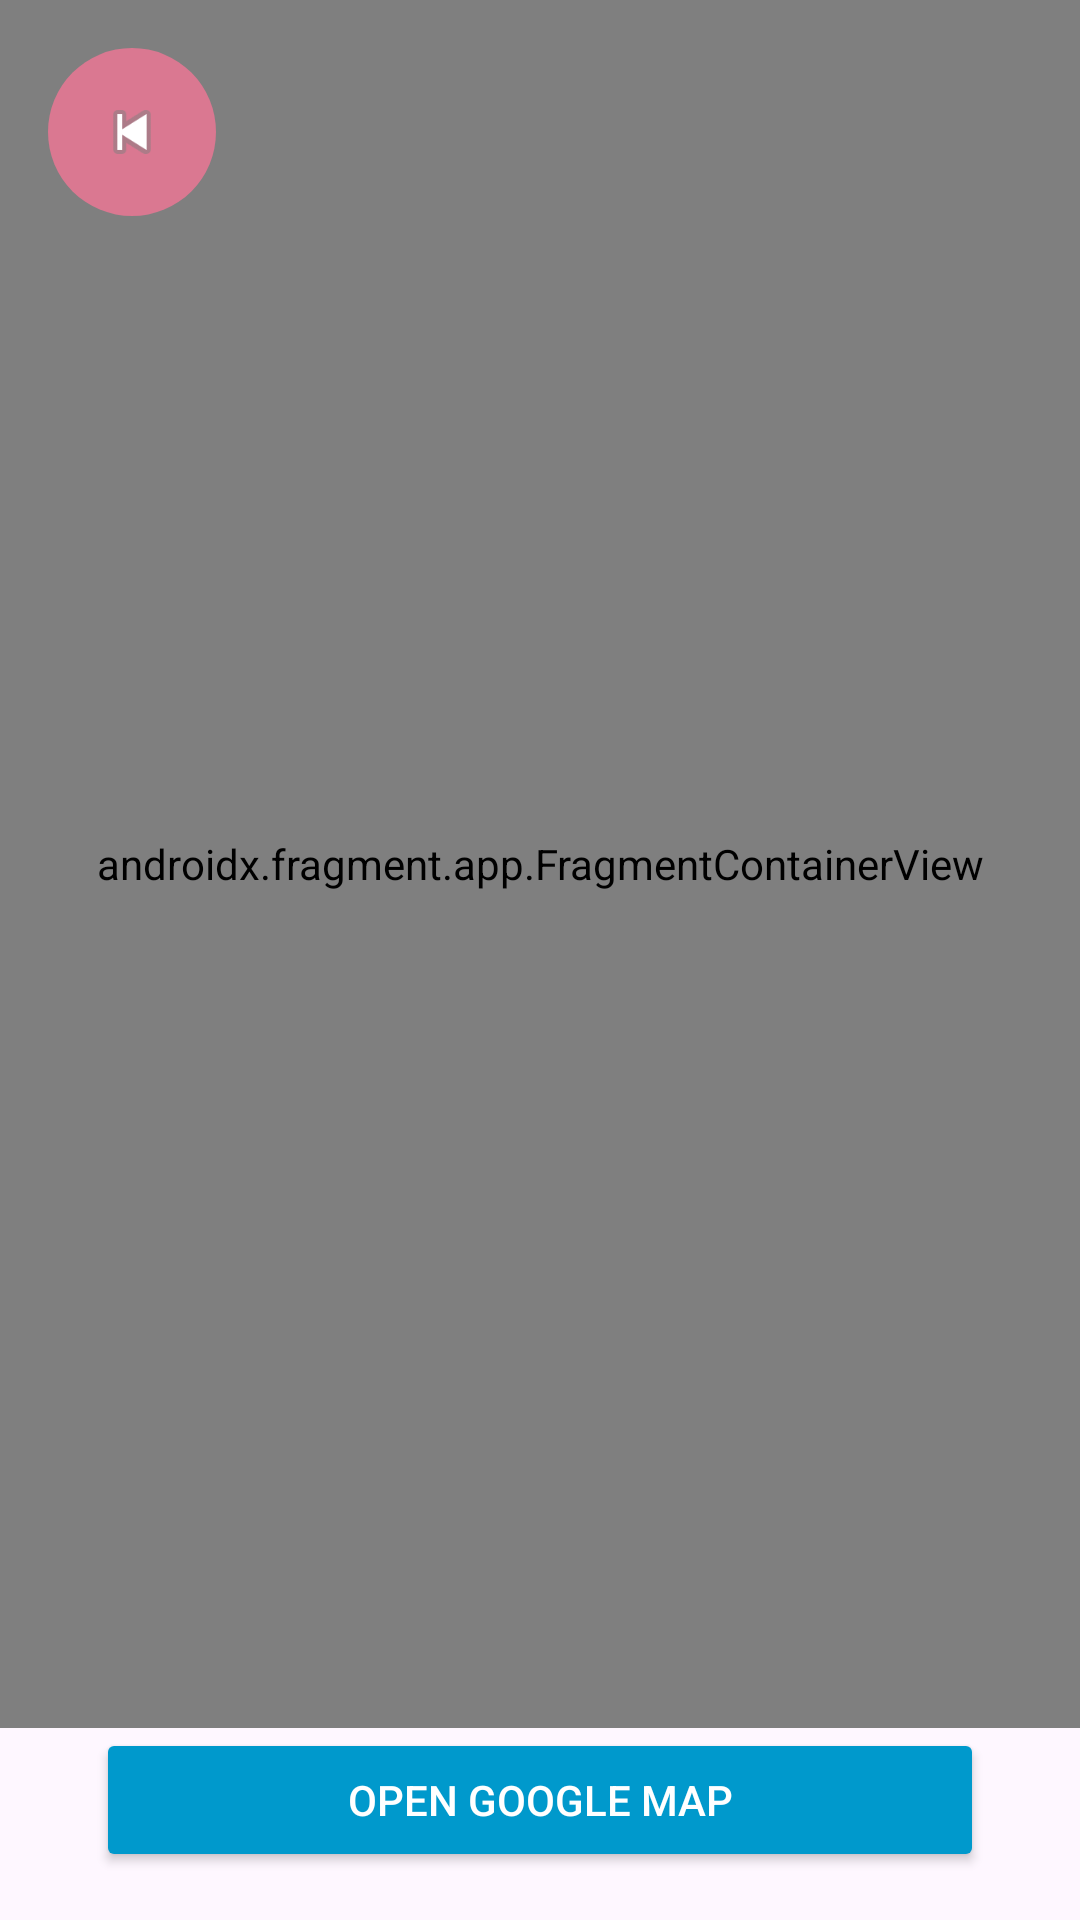

Locate icon controls on the screen. Image size 1080px×1920px, boxes as [left=x1, top=y1, right=x2, bottom=y2].
Return to previous screen: [left=48, top=48, right=216, bottom=216]
